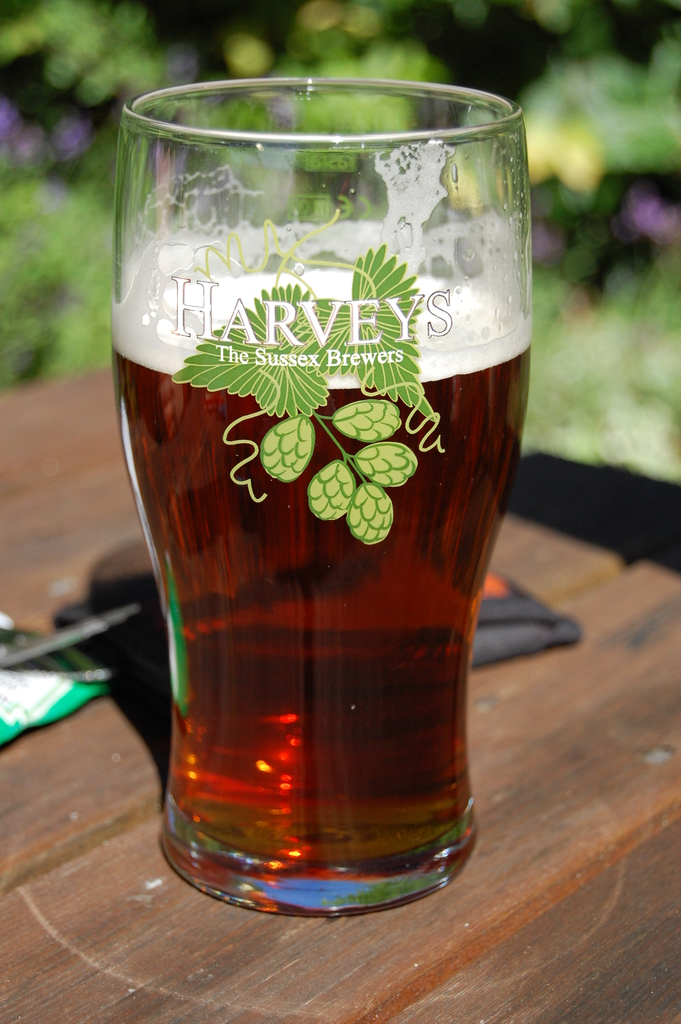Beer: (87, 56, 575, 935)
